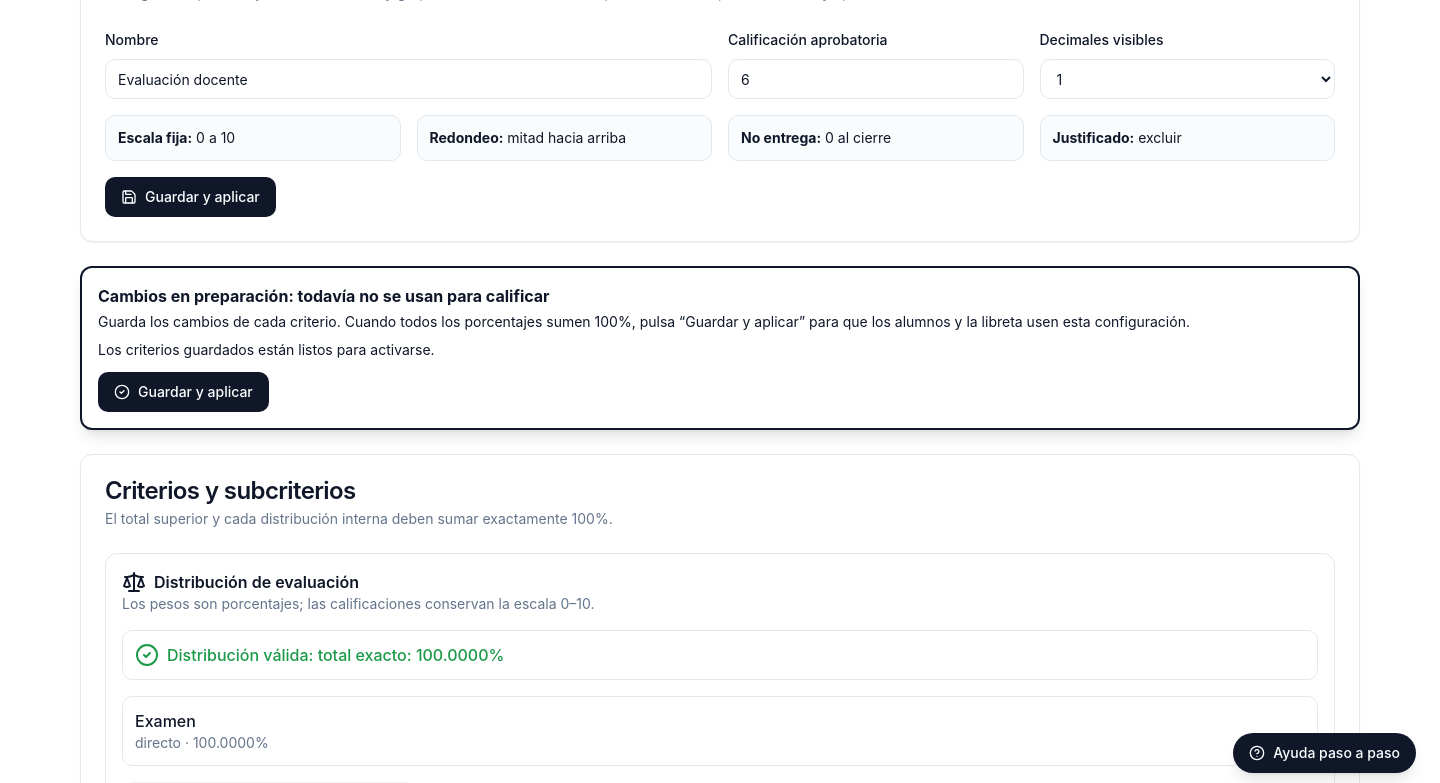
Scenario: Paso 10: interfaz administrativa accesible › aplica los criterios válidos del profesor con una acción visible y confirma el estado activo
(page scrolled)
Click the 2nd button "Guardar y aplicar". click: (183, 392)
box: [98, 372, 269, 412]
(page scrolled)
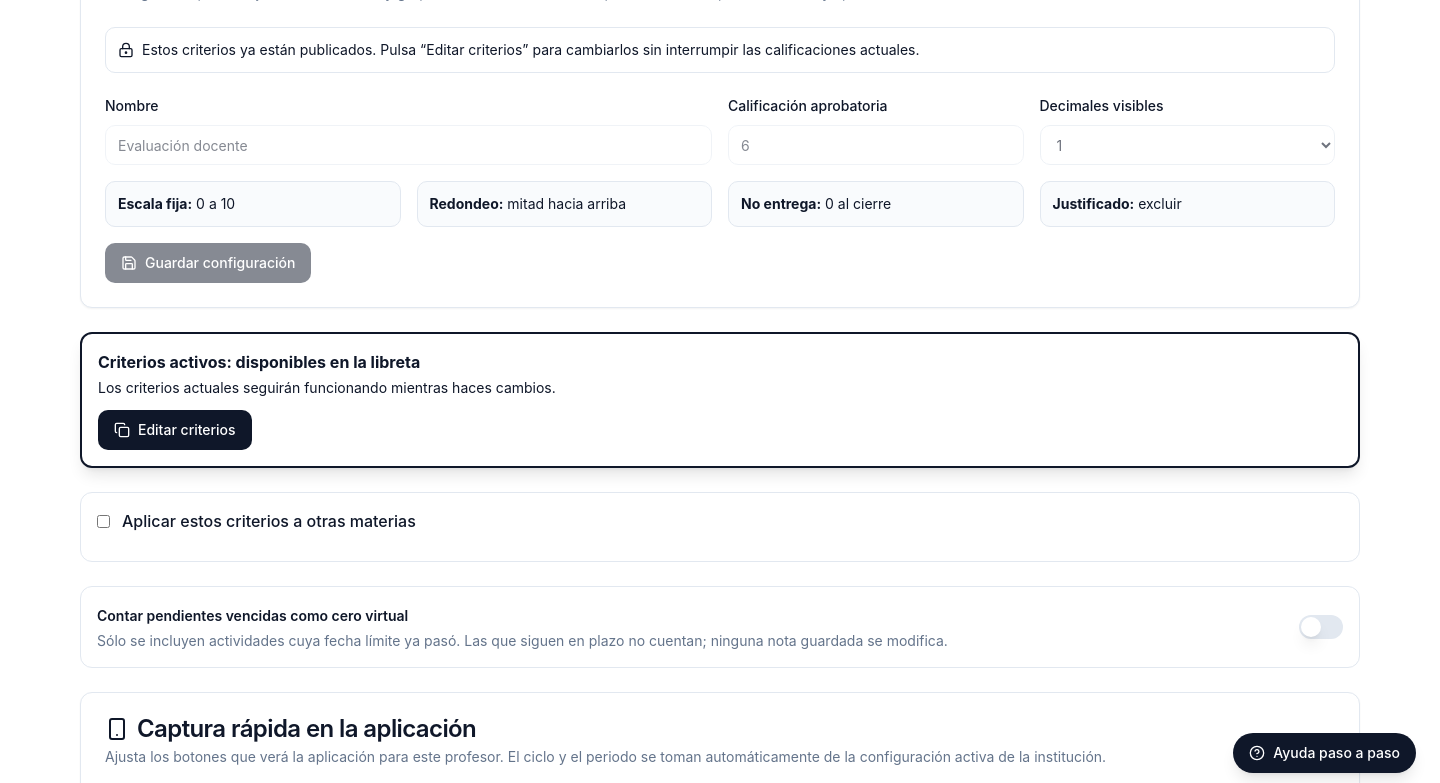
expect the text "Criterios activos: disponibles en la libreta" is shown: met, box [98, 352, 420, 372]
